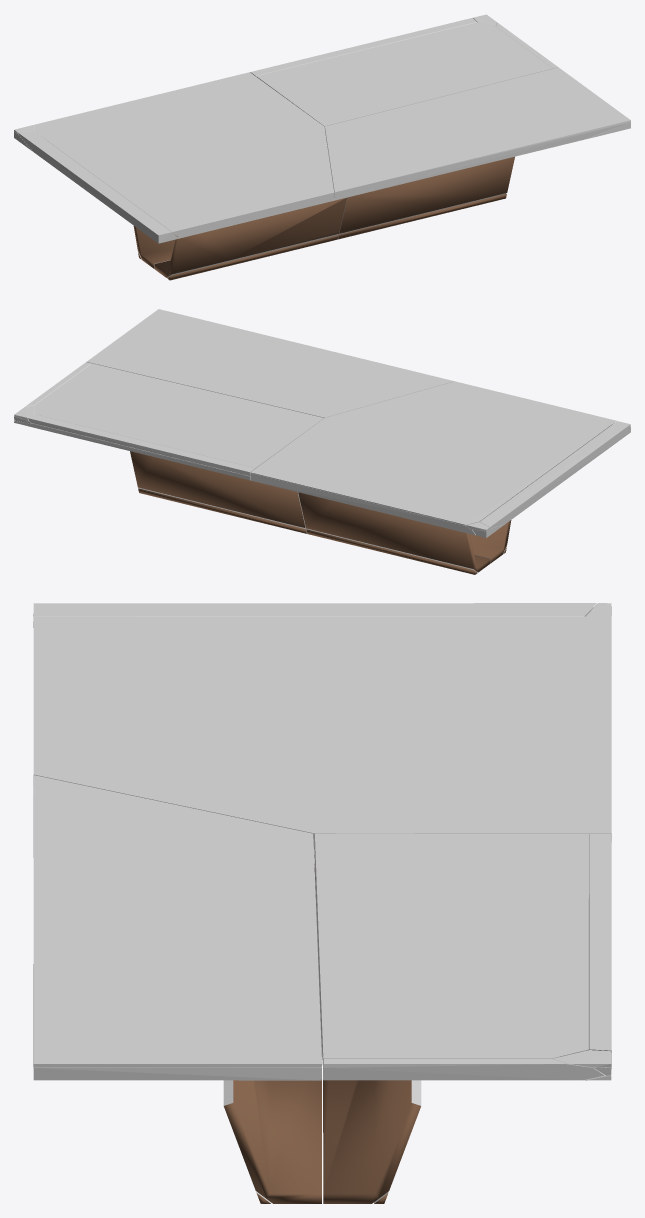
Rendered from Mesa_Sofa_Roto.fbx.
3 views of the same model, one above another, from view 1: azimuth 30°, elevation 25°; view 2: azimuth 150°, elevation 25°; view 3: azimuth 270°, elevation 25° (orthographic). The views are drawn at different scales.
Parts seen in each view (by area): view 1: MesaSofa.001_cell.004, MesaSofa.001_cell.013, MesaSofa.001_cell.003, MesaSofa_cell.010, MesaSofa_cell.009, MesaSofa.001_cell.005, MesaSofa.001_cell.012, MesaSofa_cell.014, MesaSofa_cell.008, MesaSofa_cell.011, MesaSofa.001_cell.001; view 2: MesaSofa.001_cell.004, MesaSofa.001_cell.013, MesaSofa.001_cell.003, MesaSofa_cell.014, MesaSofa_cell.001, MesaSofa.001_cell.005, MesaSofa.001_cell.012, MesaSofa.001_cell.014, MesaSofa.001_cell, MesaSofa_cell.010, MesaSofa_cell.006, MesaSofa_cell.007 (+1 smaller); view 3: MesaSofa.001_cell.004, MesaSofa.001_cell.013, MesaSofa.001_cell.003, MesaSofa_cell.001, MesaSofa_cell.009, MesaSofa.001_cell.005, MesaSofa.001_cell.001, MesaSofa.001_cell.012, MesaSofa.001_cell.007.
Boxes of the visible parts, x1=… form: MesaSofa.001_cell.004: x1=34, y1=72, x2=334, y2=238; MesaSofa.001_cell.013: x1=325, y1=67, x2=630, y2=200; MesaSofa.001_cell.003: x1=256, y1=22, x2=552, y2=128; MesaSofa_cell.010: x1=154, y1=197, x2=346, y2=277; MesaSofa_cell.009: x1=338, y1=156, x2=514, y2=234; MesaSofa.001_cell.005: x1=18, y1=131, x2=178, y2=243; MesaSofa.001_cell.012: x1=250, y1=17, x2=476, y2=76; MesaSofa_cell.014: x1=133, y1=226, x2=176, y2=268; MesaSofa_cell.008: x1=338, y1=194, x2=506, y2=239; MesaSofa_cell.011: x1=167, y1=235, x2=338, y2=280; MesaSofa.001_cell.001: x1=495, y1=22, x2=558, y2=68; MesaSofa.001_cell.004: x1=250, y1=381, x2=616, y2=525; MesaSofa.001_cell.013: x1=87, y1=309, x2=454, y2=417; MesaSofa.001_cell.003: x1=34, y1=363, x2=323, y2=468; MesaSofa_cell.014: x1=298, y1=492, x2=490, y2=572; MesaSofa_cell.001: x1=130, y1=451, x2=306, y2=529; MesaSofa.001_cell.005: x1=480, y1=421, x2=630, y2=528; MesaSofa.001_cell.012: x1=28, y1=414, x2=255, y2=475; MesaSofa.001_cell.014: x1=250, y1=473, x2=475, y2=535; MesaSofa.001_cell: x1=28, y1=423, x2=250, y2=480; MesaSofa_cell.010: x1=469, y1=520, x2=511, y2=563; MesaSofa_cell.006: x1=306, y1=529, x2=477, y2=574; MesaSofa_cell.007: x1=138, y1=488, x2=306, y2=533; MesaSofa.001_cell.004: x1=33, y1=616, x2=611, y2=849; MesaSofa.001_cell.013: x1=33, y1=775, x2=322, y2=1067; MesaSofa.001_cell.003: x1=314, y1=833, x2=588, y2=1058; MesaSofa_cell.001: x1=323, y1=1080, x2=421, y2=1203; MesaSofa_cell.009: x1=223, y1=1079, x2=321, y2=1203; MesaSofa.001_cell.005: x1=33, y1=603, x2=596, y2=627; MesaSofa.001_cell.001: x1=323, y1=1056, x2=604, y2=1080; MesaSofa.001_cell.012: x1=583, y1=834, x2=611, y2=1052; MesaSofa.001_cell.007: x1=33, y1=1067, x2=321, y2=1080.
Bounding box in the file's own units: 175 × 36.46 × 92.54.
